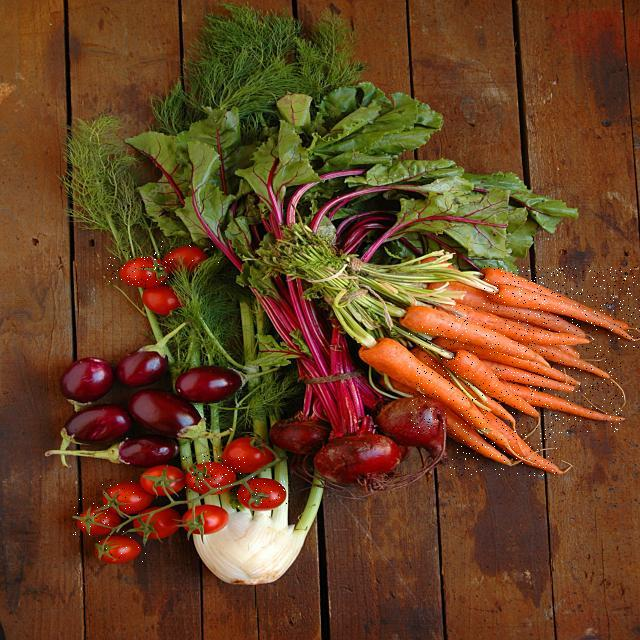carrots: (409, 326, 623, 433), (449, 305, 557, 476), (482, 266, 640, 351)
tomatoes: (180, 454, 245, 492), (107, 250, 172, 286), (69, 498, 124, 539), (221, 435, 277, 473), (233, 475, 292, 507), (160, 241, 220, 270), (96, 534, 146, 567), (100, 479, 144, 513), (135, 292, 186, 316)
